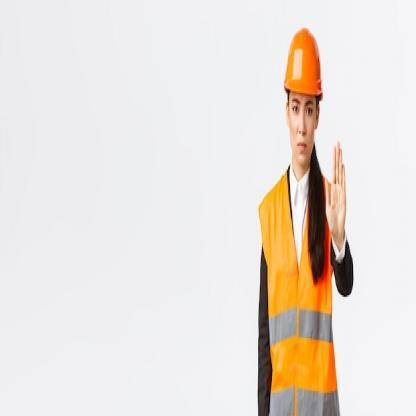stop: (323, 132, 350, 244)
